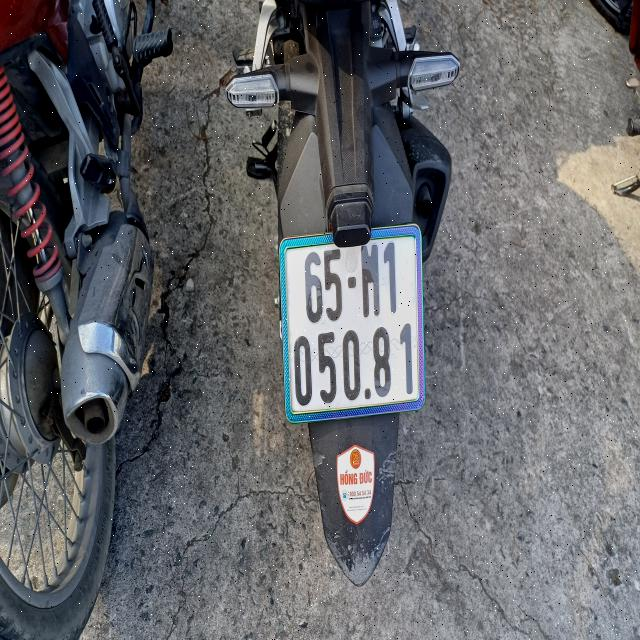0: (343, 322, 364, 403), (294, 337, 316, 410)
1: (396, 319, 416, 397), (381, 242, 401, 313)
5: (323, 251, 346, 323), (318, 335, 338, 408)
6: (302, 249, 326, 327)
8: (372, 320, 390, 399)
M: (360, 237, 382, 315)
